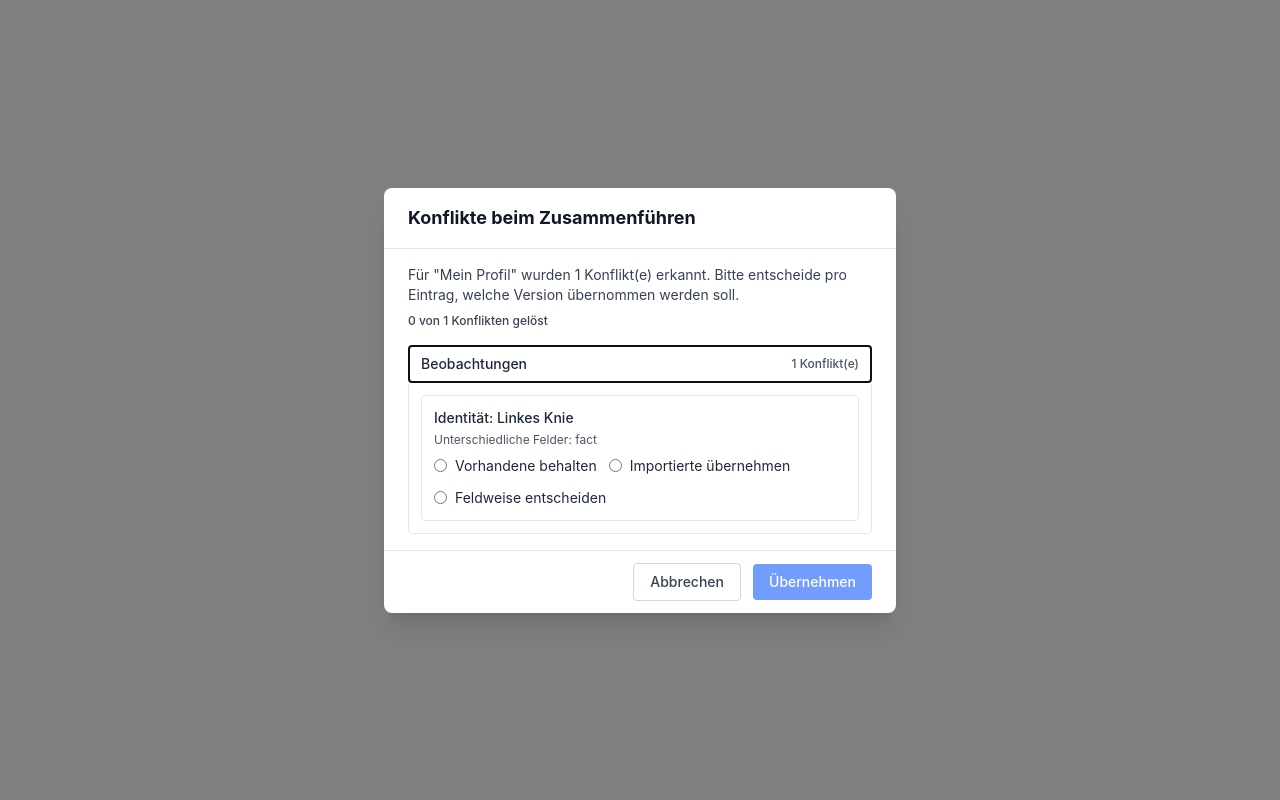
Test: ConflictResolutionDialog › field-by-field opens the per-field expansion panel below the conflict
Click the radio button with test id "conflict-row-obs-existing-1-field-by-field".
click(440, 498)  # box [434,491,447,504]
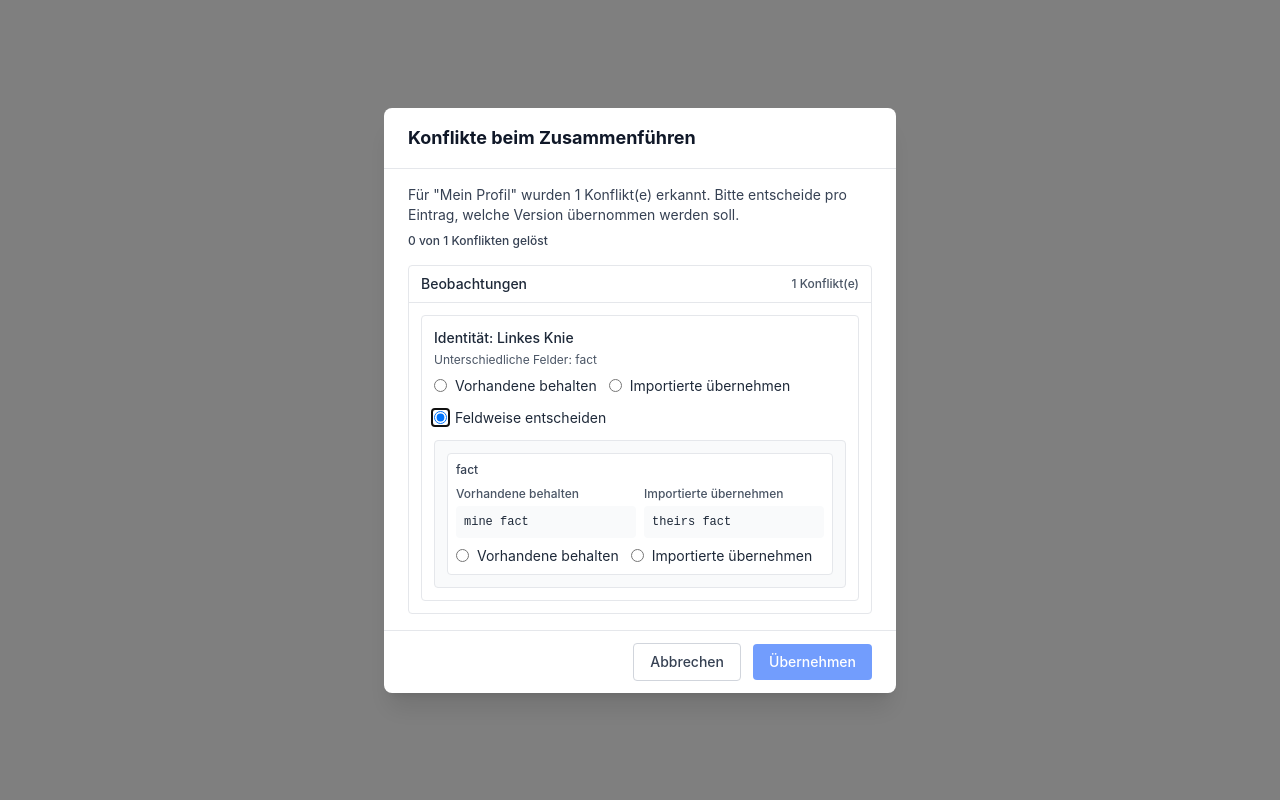
Result: the element with test id "conflict-row-obs-existing-1-fbf-panel" is shown at [434,440,846,588]
Result: the element with test id "conflict-row-obs-existing-1-fbf-fact" is shown at [447,452,833,574]
